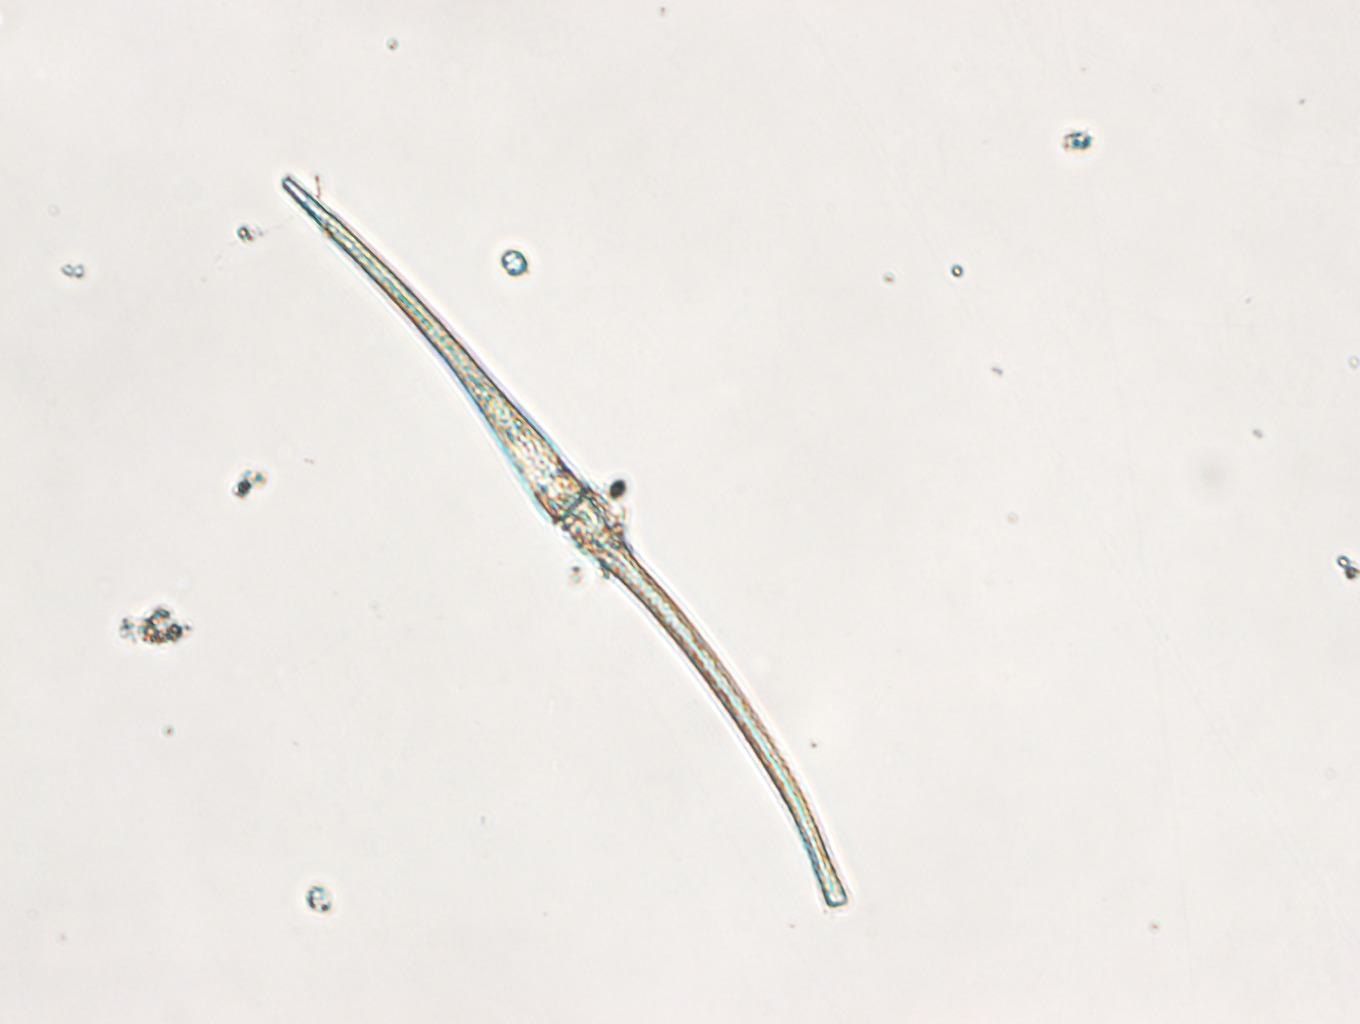ceratium fusus: (282, 174, 851, 908)
